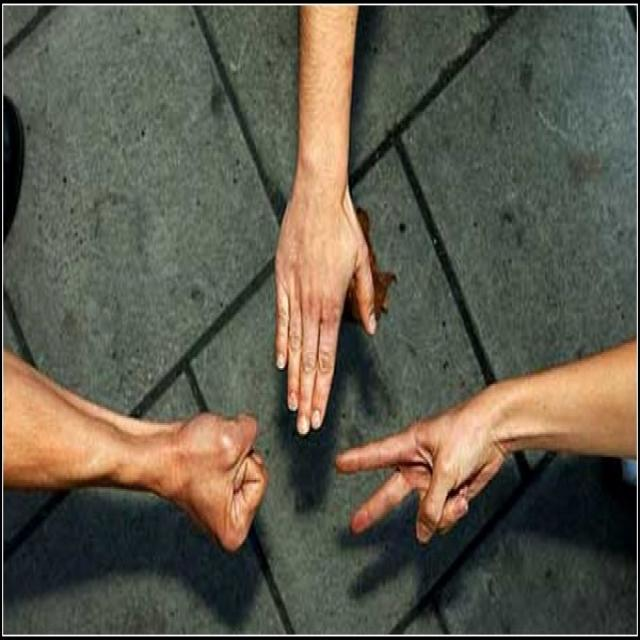paper: (276, 218, 376, 432)
rock: (186, 410, 268, 554)
scissors: (335, 436, 483, 540)
